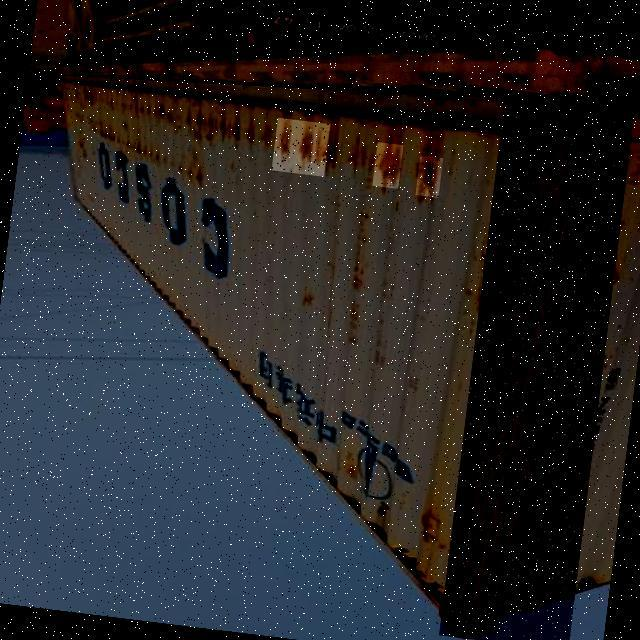Rust: (441, 99, 634, 637), (271, 118, 330, 177), (372, 142, 403, 189), (415, 155, 443, 198)
